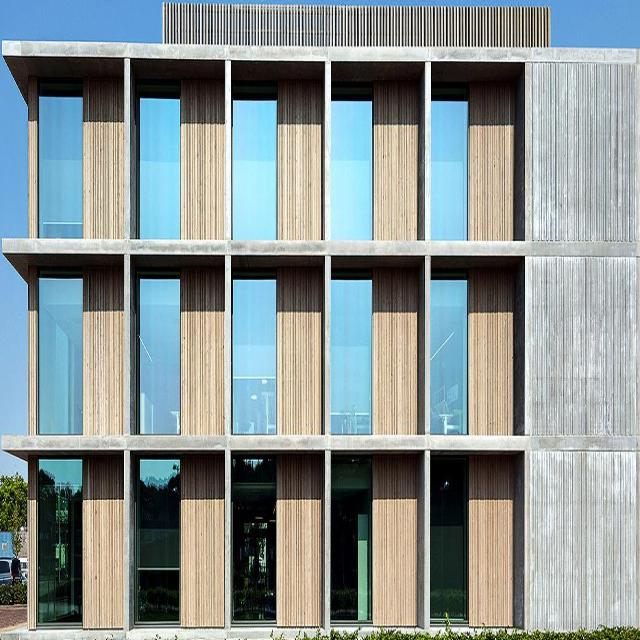railing: (167, 0, 551, 46)
window: (231, 275, 276, 434), (230, 464, 275, 622), (39, 274, 82, 432), (38, 463, 81, 620), (331, 274, 371, 438), (330, 462, 370, 626), (232, 96, 277, 240), (139, 275, 180, 433), (138, 464, 178, 621), (330, 94, 372, 240), (138, 97, 181, 239), (40, 95, 83, 237), (430, 280, 468, 437), (429, 468, 467, 625), (429, 101, 469, 243)
